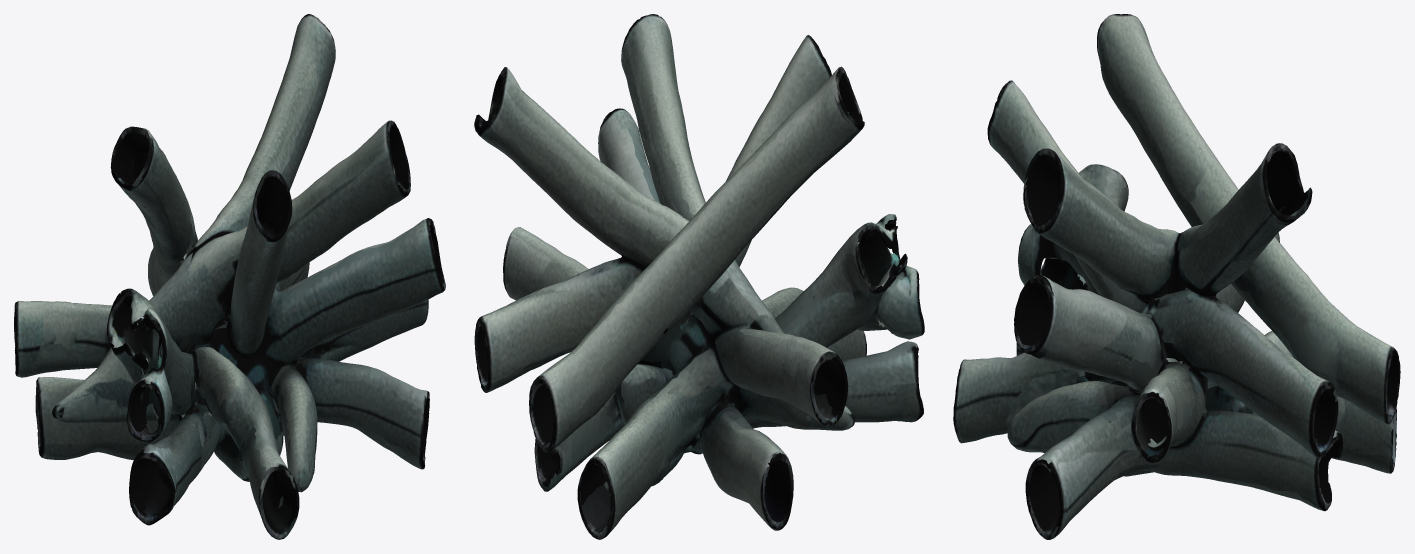
Rendered from debris-rebar.glb.
3 renders of one model, left to right at view 1: azimuth 30°, elevation 25°; view 2: azimuth 150°, elevation 25°; view 3: azimuth 270°, elevation 25°, orthographic. The views are drawn at different scales.
Parts seen in each view (by area): view 1: tmpc_s1qzd8.ply; view 2: tmpc_s1qzd8.ply; view 3: tmpc_s1qzd8.ply.
Part boxes in pixels (x1=…): tmpc_s1qzd8.ply: x1=14, y1=14, x2=445, y2=539; tmpc_s1qzd8.ply: x1=474, y1=14, x2=924, y2=539; tmpc_s1qzd8.ply: x1=953, y1=14, x2=1400, y2=539.
Bounding box in the file's own units: 1 × 1 × 1.
Materials: 1 (1 with a texture image).
